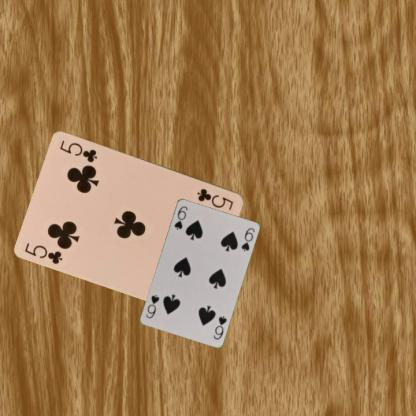5c: (195, 186, 235, 212), (23, 240, 64, 265)
6s: (172, 204, 189, 231), (211, 313, 228, 340)
